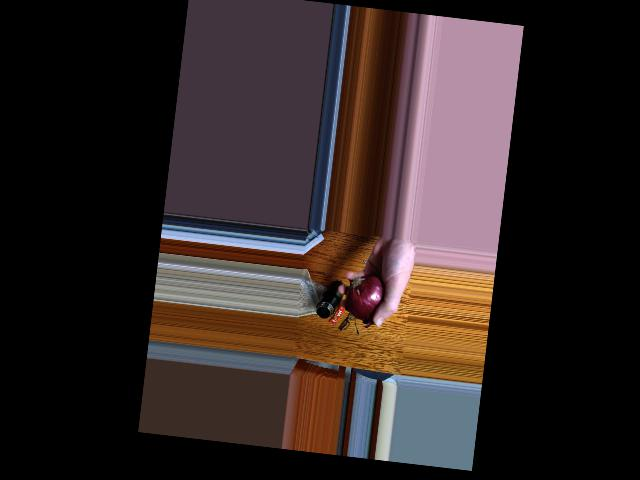onion: (349, 275, 391, 318)
